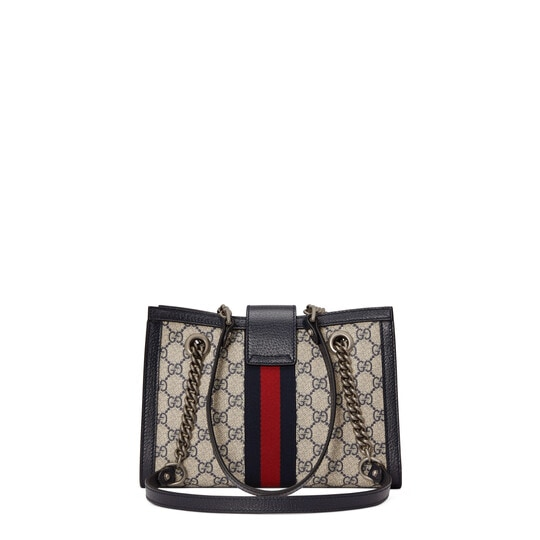Gucci: (98, 273, 426, 519), (232, 294, 326, 519)
